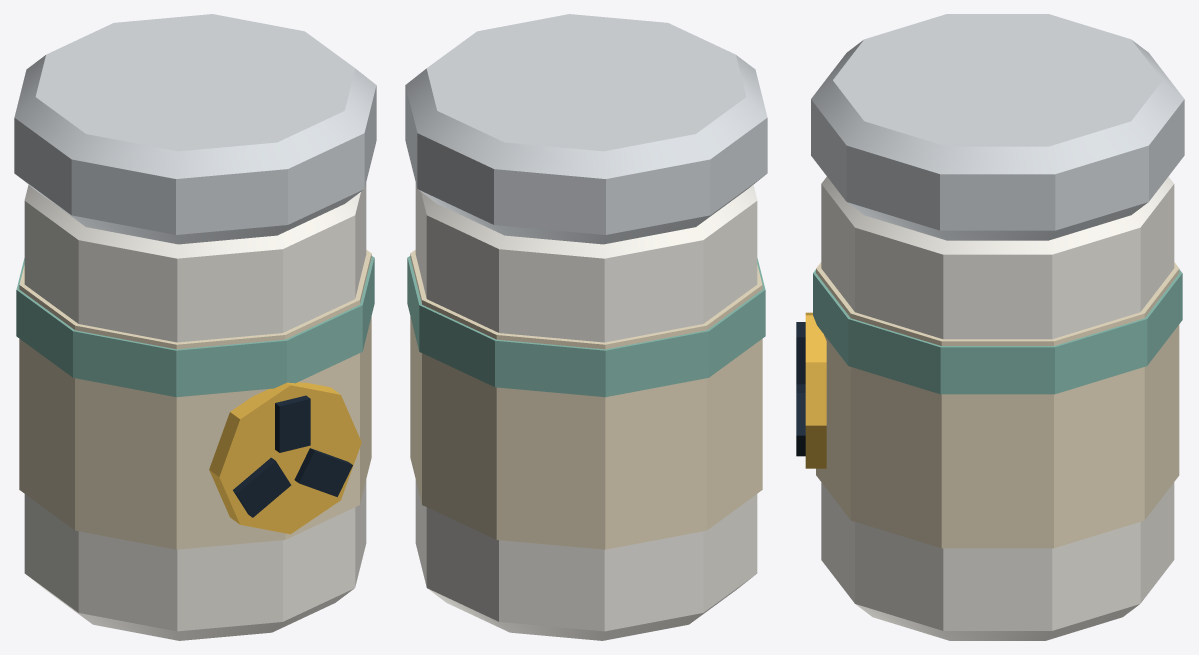
File: Item_ClearRadPills.fbx
The picture shows the model from 3 angles, left to right: view 1: azimuth 30°, elevation 25°; view 2: azimuth 150°, elevation 25°; view 3: azimuth 270°, elevation 25°; orthographic projection.
Parts seen in each view (by area): view 1: Pills; view 2: Pills; view 3: Pills.
Part boxes in pixels (<box>): Pills: <box>14,14,376,640</box>; Pills: <box>405,14,767,640</box>; Pills: <box>796,14,1184,640</box>.
Size of the model in its own units: 0.3424 by 0.53 by 0.374.
